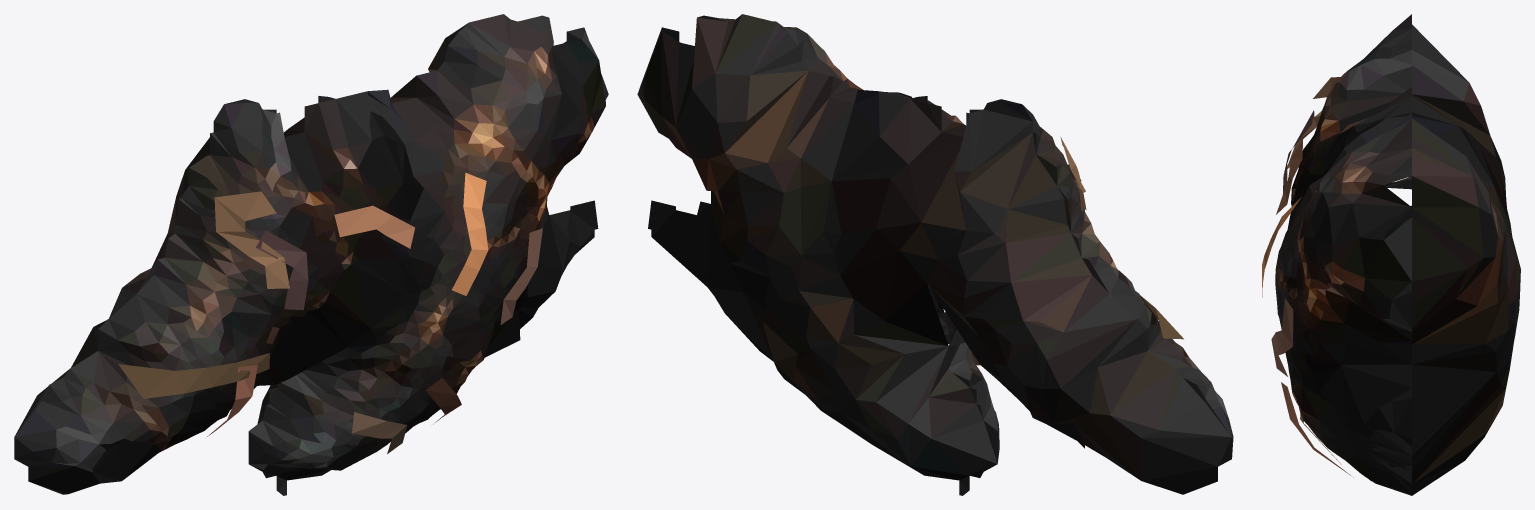
The picture shows the model from 3 angles, left to right: view 1: azimuth 30°, elevation 25°; view 2: azimuth 150°, elevation 25°; view 3: azimuth 270°, elevation 25°; orthographic projection. The views are drawn at different scales.
Parts seen in each view (by area): view 1: object 2, detail; view 2: object 2, detail; view 3: object 2, detail.
Part boxes in pixels (left/top/right/bottom): object 2: left=14, top=14, right=608, bottom=495; detail: left=118, top=172, right=542, bottom=454; object 2: left=637, top=14, right=1233, bottom=495; detail: left=971, top=137, right=1183, bottom=365; object 2: left=1275, top=14, right=1520, bottom=495; detail: left=1262, top=77, right=1353, bottom=477.
Bounding box in the file's own units: 170 × 117 × 59.92.
